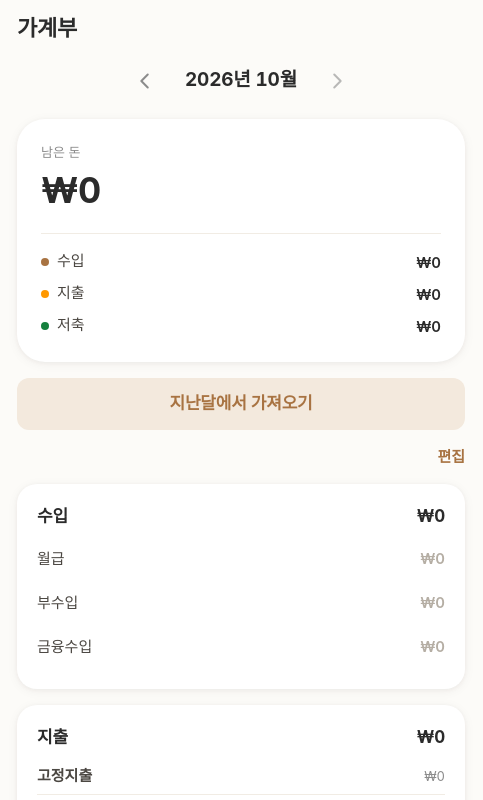
가계부 월별 화면 › 이번 달이 비고 지난달에 대상 값이 있으면 가져오기가 보이고, 누르면 수입·고정지출·저축만 채워 편집에 들어간다
Click the button "지난달에서 가져오기".
click(241, 404)  # box [17, 378, 465, 430]
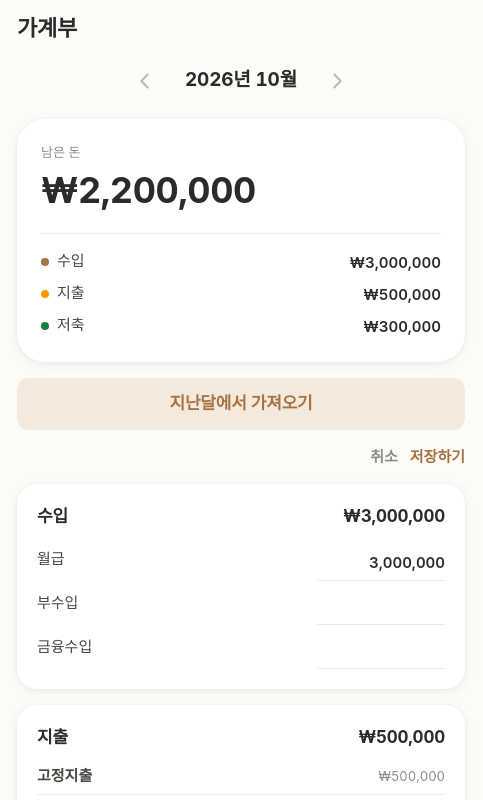
Result: the field labelled "월급" holds "3,000,000" at [317, 537, 445, 581]
